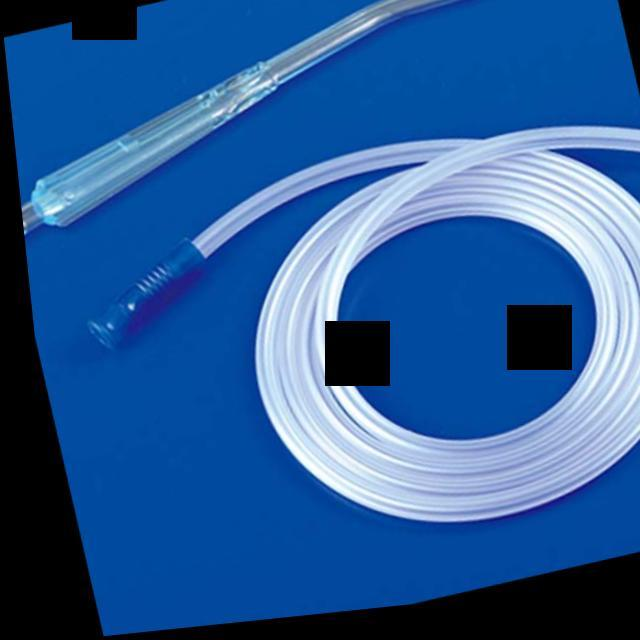Suction Tube Nozzle: (0, 0, 640, 616)
